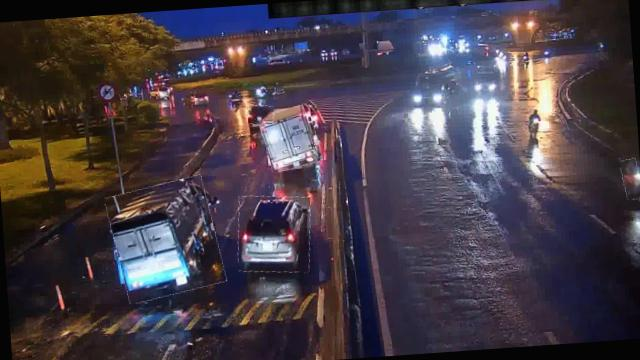Bike: (619, 158, 640, 200), (526, 108, 542, 138)
Car: (234, 192, 313, 275), (247, 102, 274, 126)
Truck: (106, 177, 222, 301), (260, 105, 320, 172)
